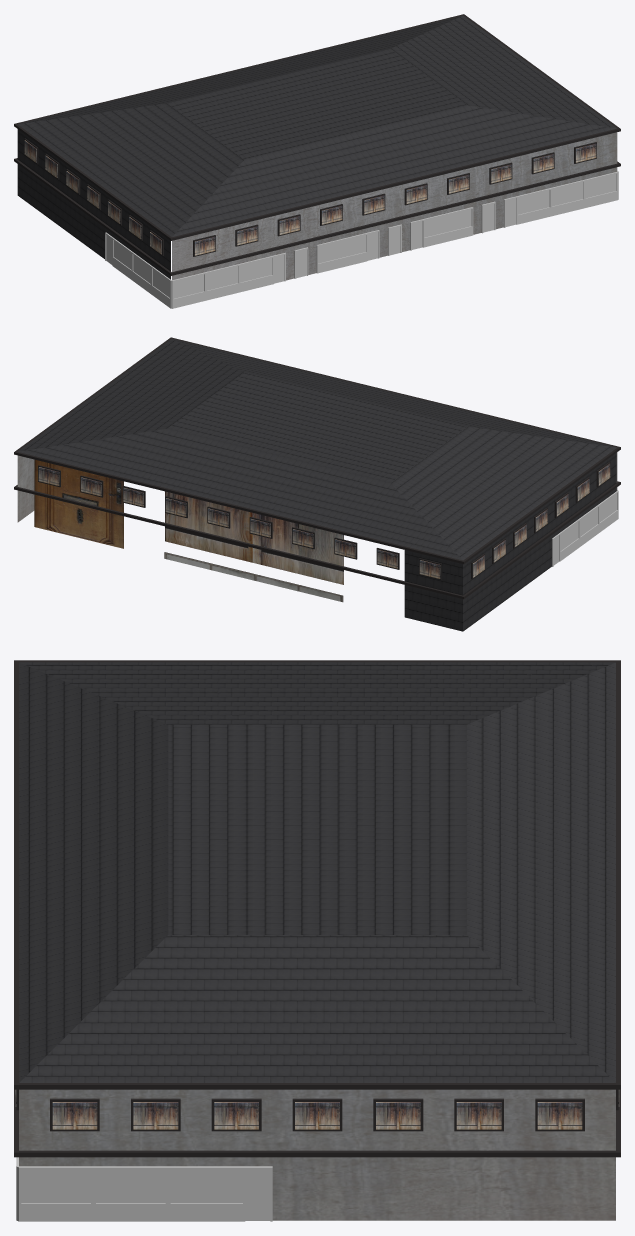
The model's file is immeuble.fbx.
3 views of the same model, one above another, from view 1: azimuth 30°, elevation 25°; view 2: azimuth 150°, elevation 25°; view 3: azimuth 270°, elevation 25° (orthographic). The views are drawn at different scales.
Parts seen in each view (by area): view 1: Toit_Plane, Immeuble_Cube, Facade_Plane_001, fenetre_Cube; view 2: Toit_Plane, Immeuble_Cube, fenetre_Cube, Facade_Plane_001; view 3: Toit_Plane, Immeuble_Cube, Facade_Plane_001, fenetre_Cube.
Part boxes in pixels (x1,y1,x2,y2): Toit_Plane: (14,14,620,275); Immeuble_Cube: (17,129,617,280); Facade_Plane_001: (105,171,618,308); fenetre_Cube: (24,138,596,256); Toit_Plane: (14,337,620,599); Immeuble_Cube: (17,452,617,631); fenetre_Cube: (38,461,610,580); Facade_Plane_001: (552,490,618,566); Toit_Plane: (14,660,620,1157); Immeuble_Cube: (19,1089,615,1220); Facade_Plane_001: (16,1157,272,1221); fenetre_Cube: (15,1089,619,1131).
Size of the model in its own units: 202 by 40 by 122.
4 materials, 3 textured.
